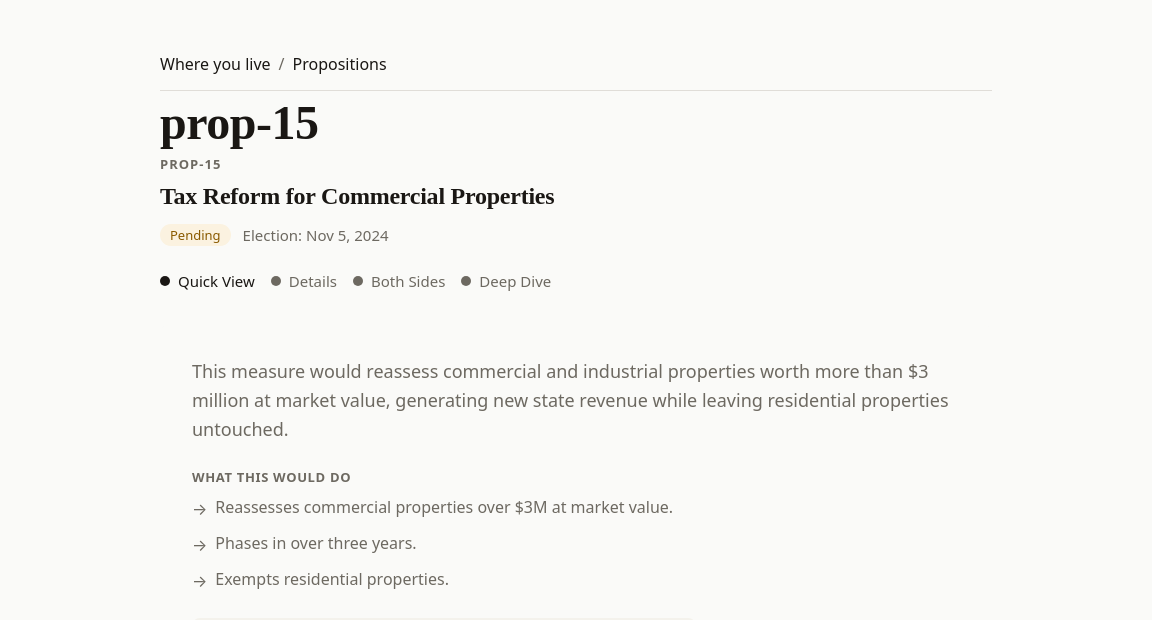
Test: PropositionDetailPage › Layer Navigation › should navigate via layer indicator dots
Click "Deep Dive" dot
Click the button "Deep Dive" at (506, 281), box [461, 270, 551, 293]
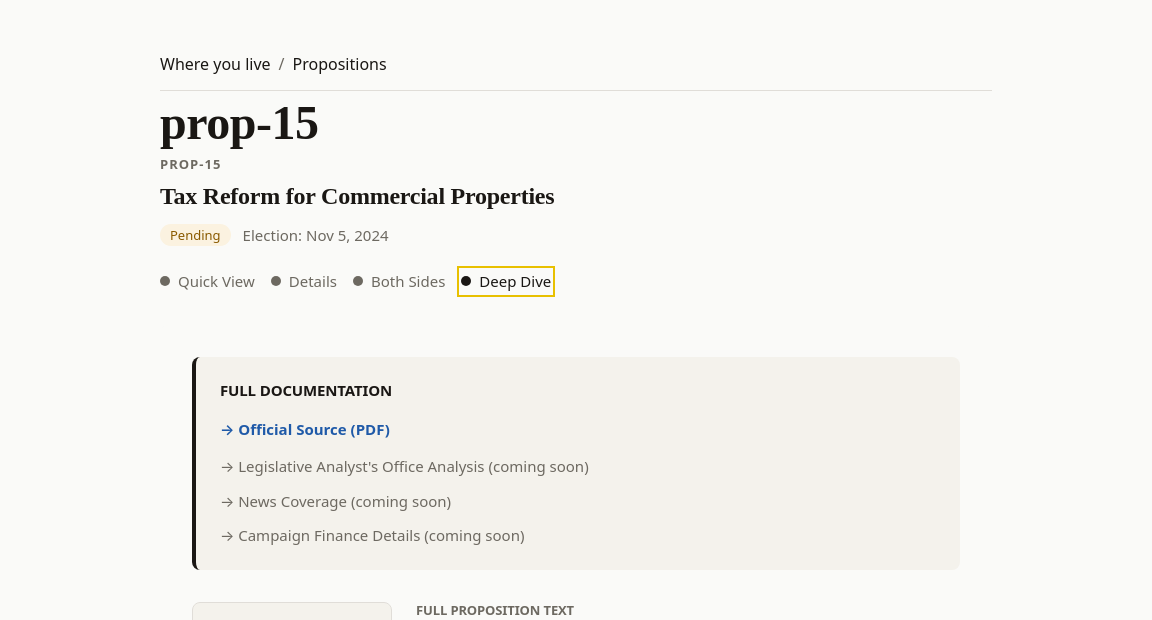
Result: the heading "Full Documentation" is shown at [220, 380, 392, 400]
Click "Quick View" dot
Click the button "Quick View" at (207, 281), box [160, 270, 255, 293]
(page scrolled)
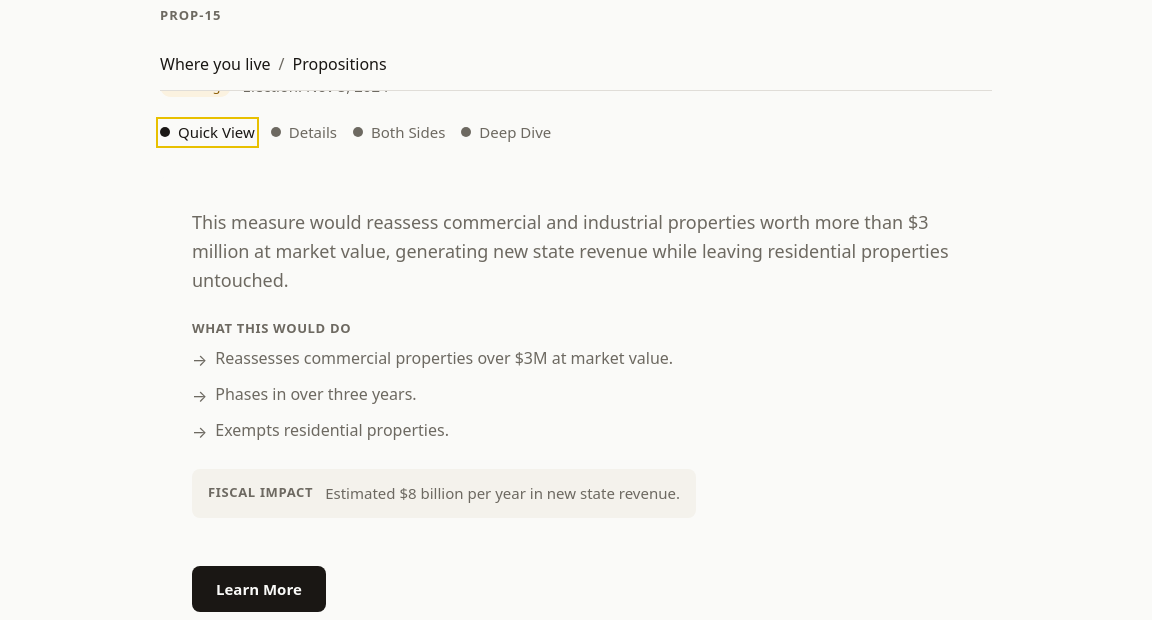
Result: the button "Learn More" is shown at [192, 566, 326, 612]
